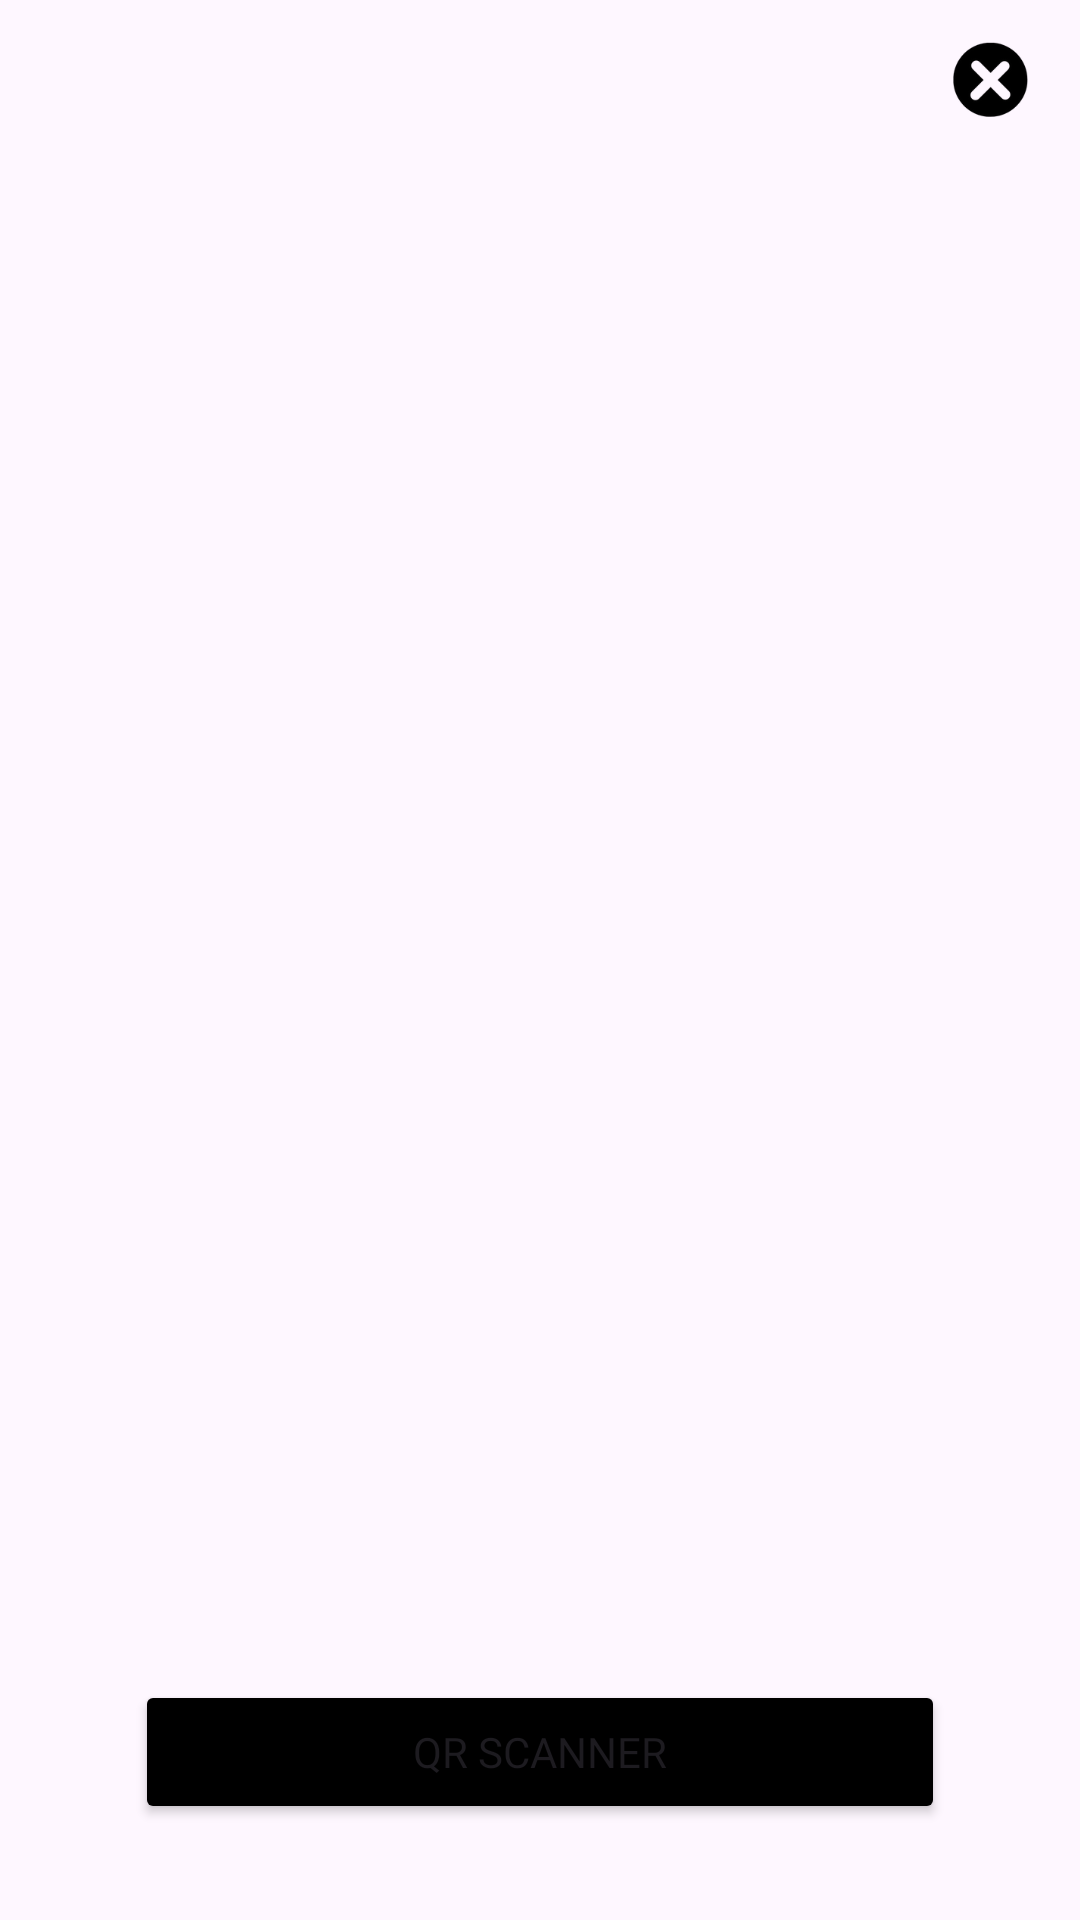

Locate icon controls on the screen. Image size 1080px×1920px, boxes as (x1, y1, x2, y2).
exitbtn: (953, 42, 1028, 117)
